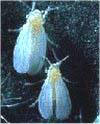whitefly: (12, 2, 48, 76), (37, 54, 73, 122)
